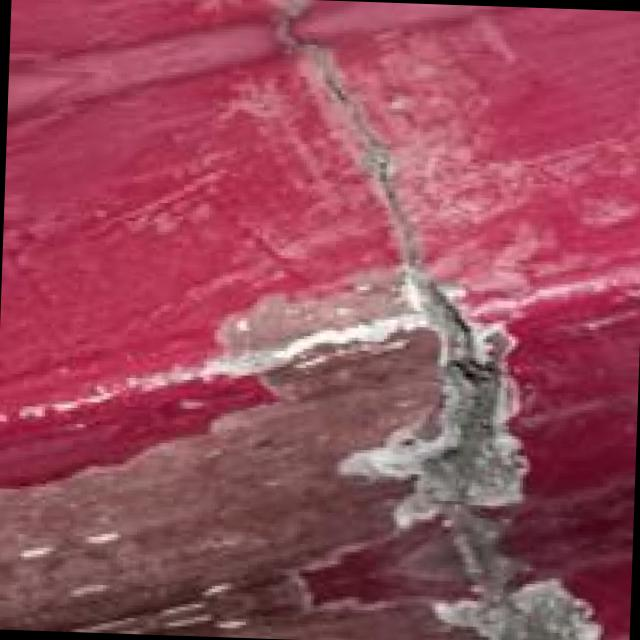crack: (251, 1, 596, 640)
